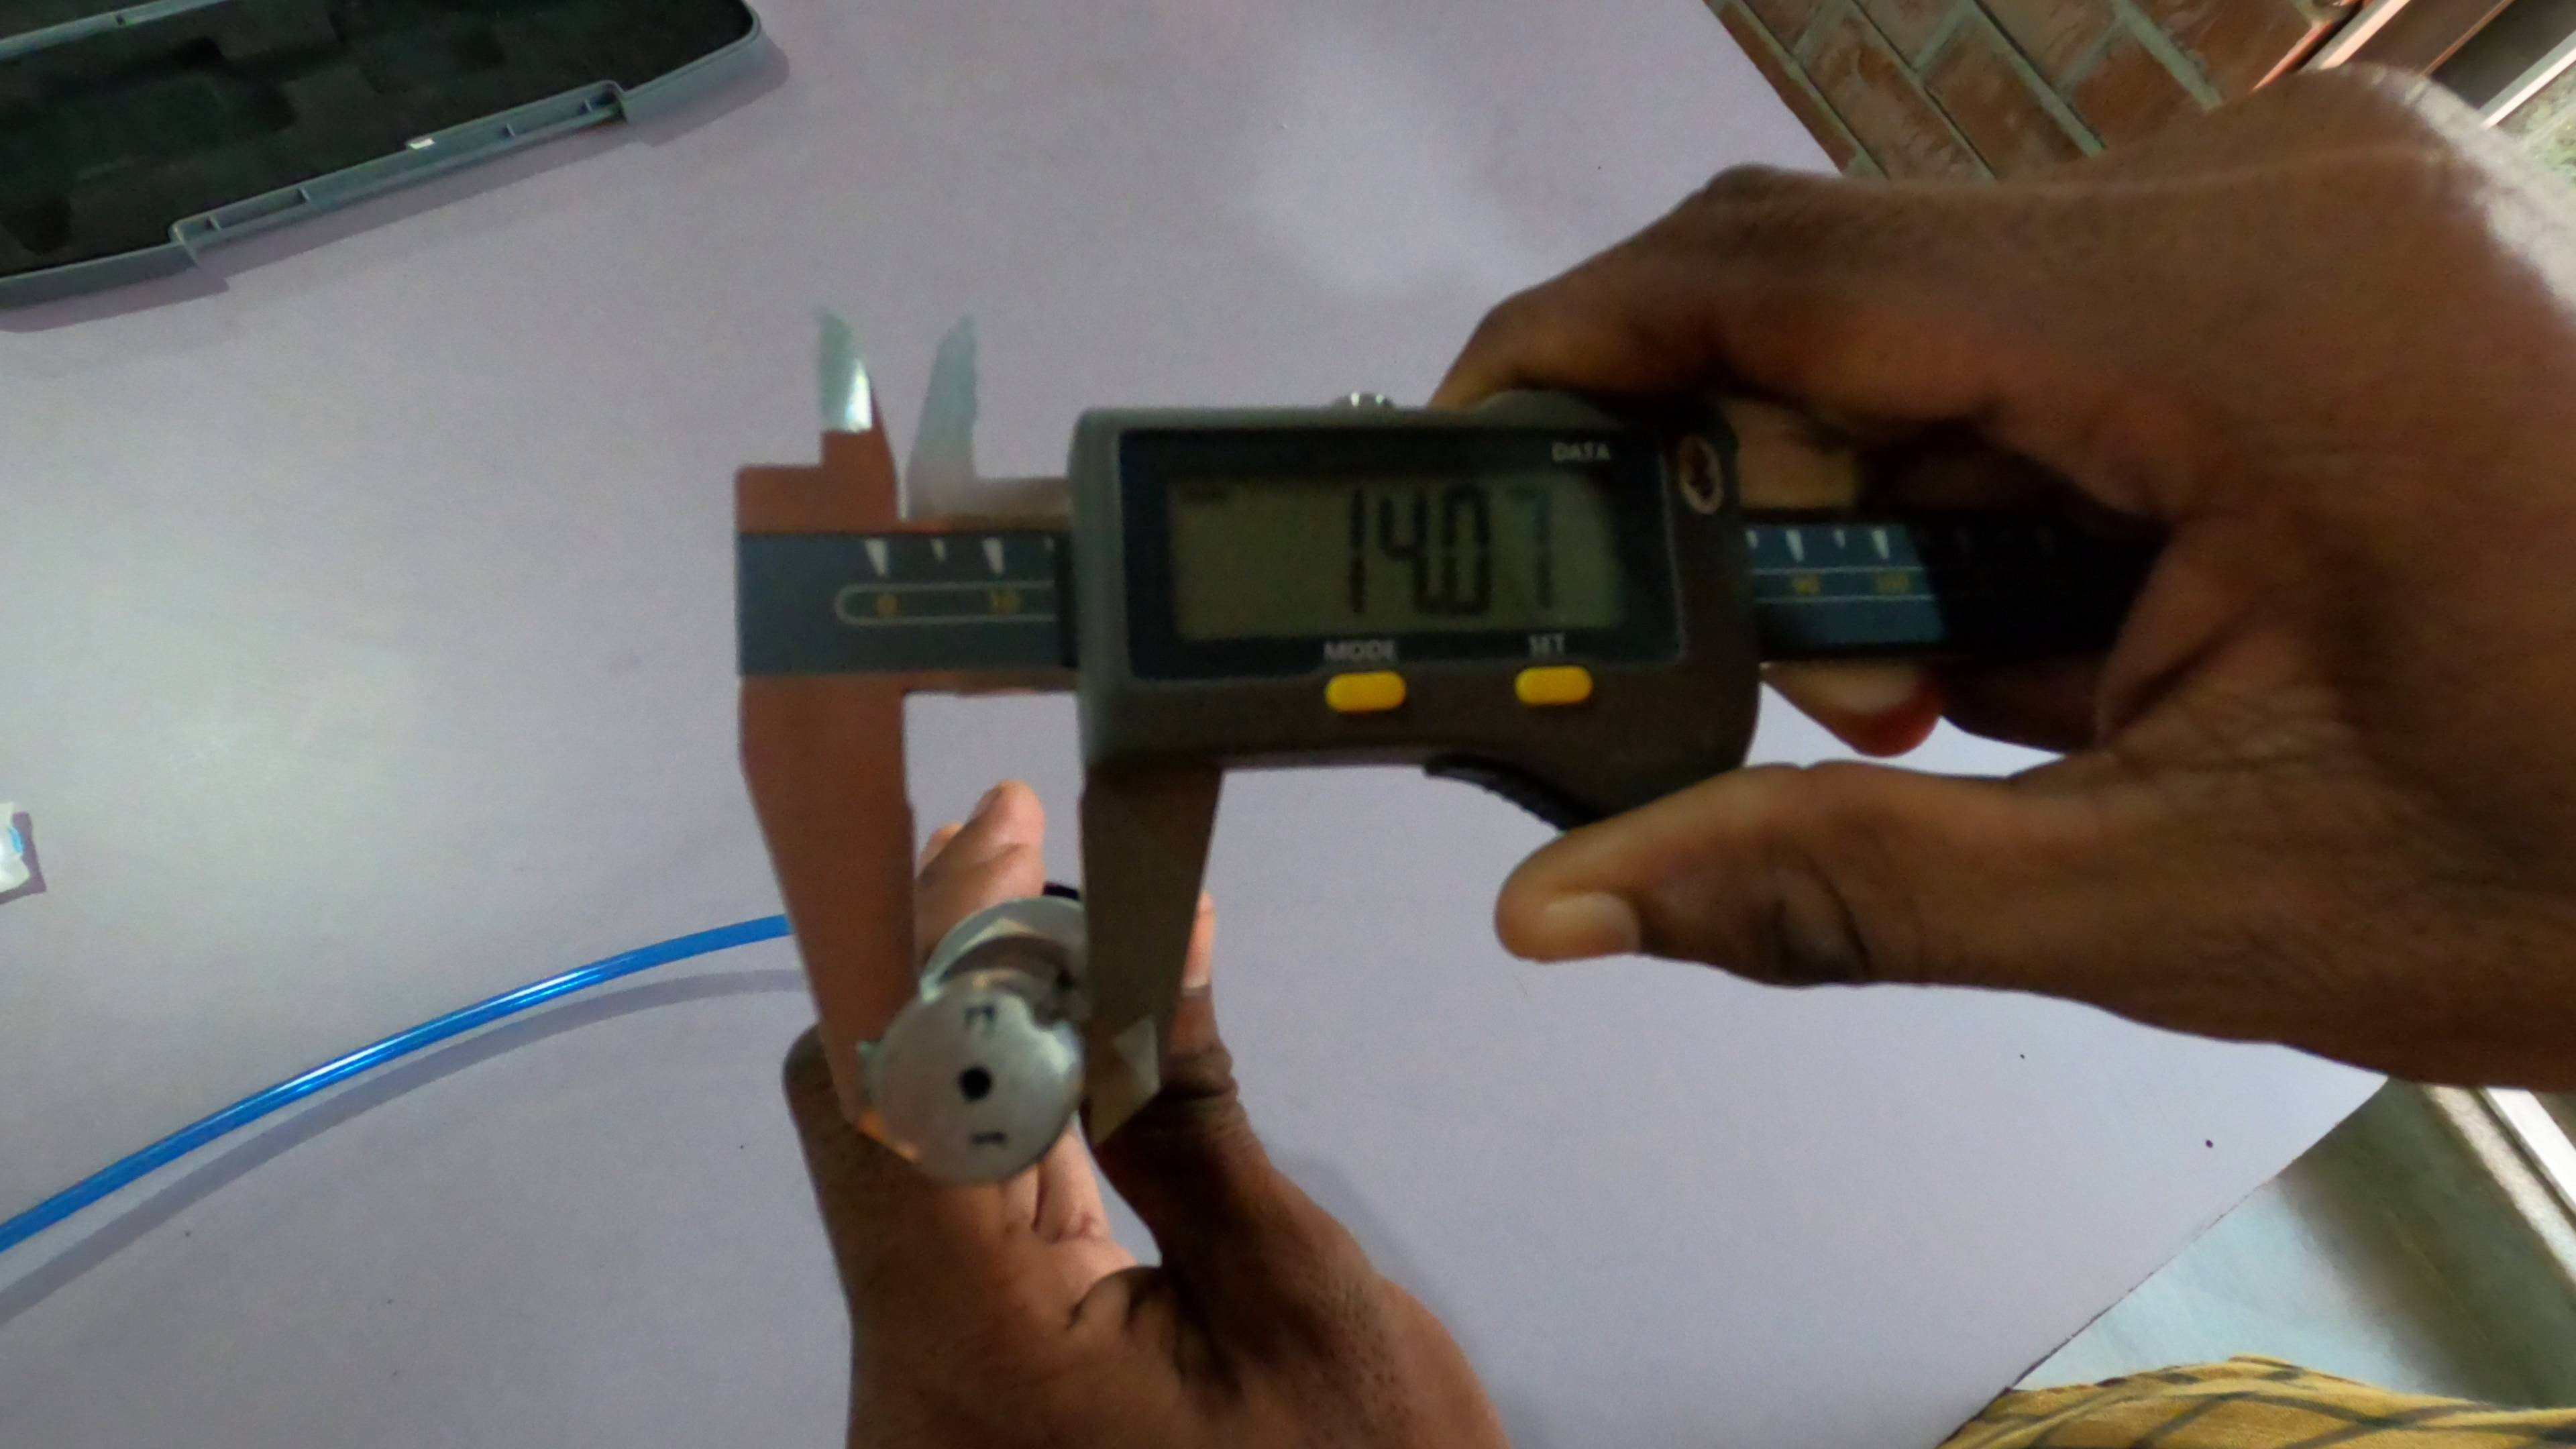vernier_caliper: (736, 303, 2061, 1191)
